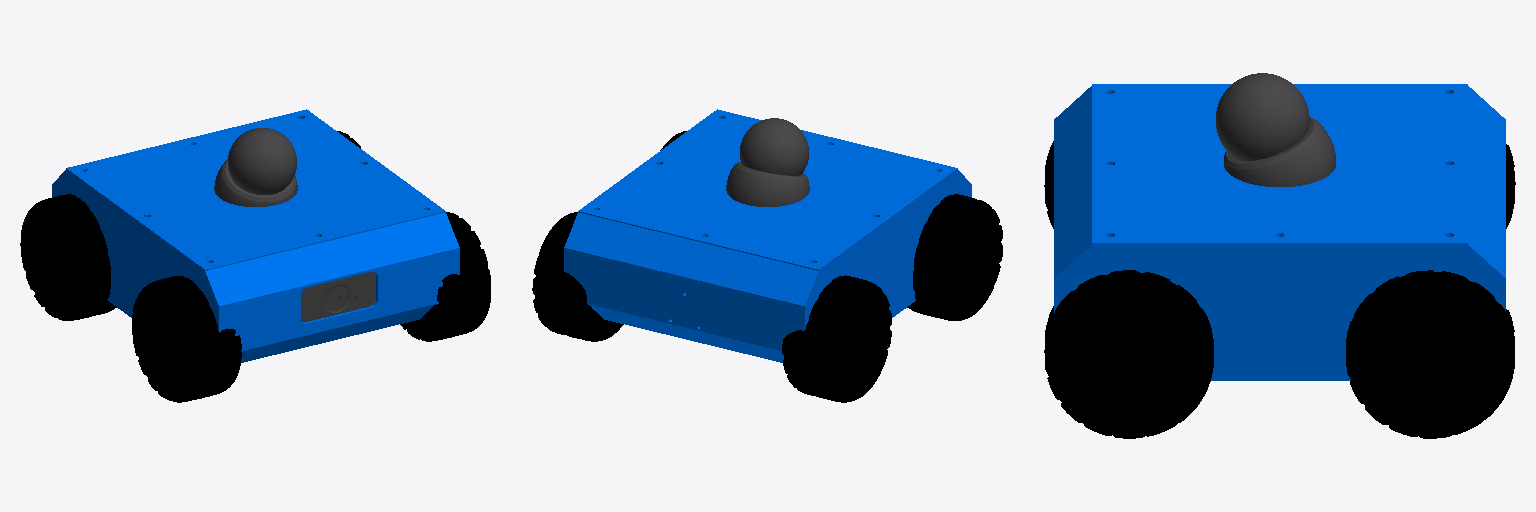
The robot description file, URDF, robot "corobot":
<?xml version="1.0"?>

<robot name="corobot"
xmlns:sensor="http://playerstage.sourceforge.net/gazebo/xmlschema/#sensor"
       xmlns:controller="http://playerstage.sourceforge.net/gazebo/xmlschema/#controller"
       xmlns:interface="http://playerstage.sourceforge.net/gazebo/xmlschema/#interface">
	<!-- base_footprint is a fictitious link(frame) that is on the ground right below base_link origin,
	     navigation stack depends on this frame -->
	<link name="base_footprint">
	    <inertial>
		<mass value="0.0001" />
		<origin xyz="0 0 0" />
		<inertia ixx="0.0001" ixy="0.0" ixz="0.0"
		         iyy="0.0001" iyz="0.0" 
		         izz="0.0001" />
	    </inertial>
	    
	    <visual>
		<origin xyz="0 0 0" rpy="0 0 0" />
		<geometry>
		    <box size="0.001 0.001 0.001" />
		</geometry>
		<material name="Green" />
	    </visual>
	    
	    <collision>
		<origin xyz="0 0 0.128" rpy="0 0 0" />
		<geometry>
		  <box size="0.001 0.001 0.001" />
		</geometry>
	    </collision>
	</link>


  <link
    name="base_link">
    <inertial>
      <origin
        xyz="3.2953E-17 0.0023067 -0.012977"
        rpy="0 0 0" />
      <mass
        value="8.60299" />
      <inertia
        ixx="0.0072395"
        ixy="0"
        ixz="0"
        iyy="0.006059"
        iyz="0"
        izz="0.011702" />
    </inertial>
    <visual>
      <origin
        xyz="0 0 0"
        rpy="0 0 0" />
      <geometry>
        <mesh
          filename="package://corobot_urdf/meshes/Base.STL" />
      </geometry>
      <material
        name="">
        <color
          rgba="0 0.47 0.95 1" />
      </material>
    </visual>
    <collision>
      <origin
        xyz="0 0 0"
        rpy="0 0 0" />
      <geometry>
        <mesh
          filename="package://corobot_urdf/meshes/Base.STL" />
      </geometry>
    </collision>
  </link>

	<joint name="base_footprint_joint" type="fixed">
	    <origin xyz="0 0 0" rpy="0 0 0" />
	    <parent link="base_footprint"/>
	    <child link="base_link" />
	
	</joint>


<gazebo reference="base_link">
    <material>Gazebo/Custom_Blue</material>
  </gazebo>


    <gazebo>
      <plugin name="imu_controller" filename="libgazebo_ros_imu.so">
        <alwaysOn>true</alwaysOn>
        <updateRate>50</updateRate>
        <bodyName>base_link</bodyName>
        <topicName>imu_data_fast</topicName>
        <gaussianNoise>0.1</gaussianNoise>
        <xyzOffset>0 0 0</xyzOffset> 
        <rpyOffset>0 0.0 0</rpyOffset>
      </plugin>
    </gazebo>


  <link
    name="cover">
    <inertial>
      <origin
        xyz="8.5617E-17 0.000625 -3.5469E-19"
        rpy="0 0 0" />
      <mass
        value="0.074628" />
      <inertia
        ixx="0.00042841"
        ixy="0"
        ixz="0"
        iyy="0.0008568"
        iyz="0"
        izz="0.00042841" />
    </inertial>
    <visual>
      <origin
        xyz="0 0 0"
        rpy="0 0 0" />
      <geometry>
        <mesh
          filename="package://corobot_urdf/meshes/cover.STL" />
      </geometry>
      <material
        name="">
        <color
          rgba="0 0.47 0.95 1" />
      </material>
    </visual>
    <collision>
      <origin
        xyz="0 0 0"
        rpy="0 0 0" />
      <geometry>
        <mesh
          filename="package://corobot_urdf/meshes/cover.STL" />
      </geometry>
    </collision>
  </link>

<gazebo reference="cover">
    <material>Gazebo/Custom_Blue</material>
  </gazebo>

  <joint
    name="cover_joint"
    type="fixed">
    <origin
      xyz="0 0 0.0508"
      rpy="1.5708 0 0" />
    <parent
      link="base_link" />
    <child
      link="cover" />
    <axis
      xyz="0 0 0" />
  </joint>

  <link
    name="orbit">
    <inertial>
      <origin
        xyz="-1.0166E-09 0.032926 0.0012666"
        rpy="0 0 0" />
      <mass
        value="0.24684" />
      <inertia
        ixx="0.00017194"
        ixy="0"
        ixz="0"
        iyy="0.00014928"
        iyz="0"
        izz="0.00016942" />
    </inertial>
    <visual>
      <origin
        xyz="0 0 0"
        rpy="0 0 0" />
      <geometry>
        <mesh
          filename="package://corobot_urdf/meshes/orbit.STL" />
      </geometry>
      <material
        name="">
        <color
          rgba="0.3 0.3 0.3 1" />
      </material>
    </visual>
    <collision>
      <origin
        xyz="0 0 0"
        rpy="0 0 0" />
      <geometry>
        <mesh
          filename="package://corobot_urdf/meshes/orbit.STL" />
      </geometry>
    </collision>
  </link>

<gazebo reference="orbit">
    <material>Gazebo/Custom_Grey</material>
  </gazebo>

  <joint
    name="orbit_joint"
    type="continuous">
    <origin
      xyz="0 0 0.02665"
      rpy="1.5708 0 0" />
    <parent
      link="base_link" />
    <child
      link="orbit" />
    <axis
      xyz="0 -1 0" />
  </joint>

  <link
    name="front_camera">
    <inertial>
      <origin
        xyz="2.5489E-06 0.0021357 0.0011883"
        rpy="0 0 0" />
      <mass
        value="0.037911" />
      <inertia
        ixx="6.8429E-06"
        ixy="0"
        ixz="0"
        iyy="2.0245E-05"
        iyz="0"
        izz="2.6274E-05" />
    </inertial>
    <visual>
      <origin
        xyz="0 0 0"
        rpy="0 0 0" />
      <geometry>
        <mesh
          filename="package://corobot_urdf/meshes/front_camera.STL" />
      </geometry>
      <material
        name="">
        <color
          rgba="0.3 0.3 0.3 1" />
      </material>
    </visual>
    <collision>
      <origin
        xyz="0 0 0"
        rpy="0 0 0" />
      <geometry>
        <mesh
          filename="package://corobot_urdf/meshes/front_camera.STL" />
      </geometry>
    </collision>
  </link>

  <link name="front_camera_frame">
    <inertial>
	<mass value="0.0001" />
	<origin xyz="0 0 0" rpy="0 0 0" />
	<inertia ixx="0.0001" ixy="0.0" ixz="0.0"
	         iyy="0.0001" iyz="0.0" 
	         izz="0.0001" />
    </inertial>
    
    <visual>
	<origin xyz="0 0 0" rpy="0 0 0" />
	<geometry>
	    <box size="0.001 0.001 0.001" />
	</geometry>
	<material name="Green" />
    </visual>
    
    <collision>
	<origin xyz="0 0 0" rpy="0 0 0" />
	<geometry>
	  <box size="0.001 0.001 0.001" />
	</geometry>
    </collision>
  </link>

  <joint
    name="front_camera_joint"
    type="fixed">
    <origin
      xyz="0 -0.14288 0.000635"
      rpy="1.5708 0 0" />
    <parent
      link="base_link" />
    <child
      link="front_camera" />
    <axis

      xyz="0 0 0" />
  </joint>

  <joint
    name="front_camera_frame_joint"
    type="fixed">
    <origin
      xyz="0 0 0"
      rpy="-1.5708 -1.5708 0" />
    <parent
      link="front_camera" />
    <child
      link="front_camera_frame" />
    <axis
      xyz="0 0 0" />
  </joint>
    
<gazebo reference="front_camera">
    <material>Gazebo/Custom_Grey</material>
</gazebo>
<gazebo reference="front_camera_frame">
    <sensor type="camera" name="camera1">
      <update_rate>30.0</update_rate>
      <camera>
        <horizontal_fov>1.3962634</horizontal_fov>
        <image>
          <width>640</width>
          <height>480</height>
          <format>R8G8B8</format>
        </image>
        <clip>
          <near>0.02</near>
          <far>300</far>
        </clip>
      </camera>
      <plugin name="camera_controller" filename="libgazebo_ros_camera.so">
        <alwaysOn>true</alwaysOn>
        <updateRate>0.0</updateRate>
        <cameraName>PTZ</cameraName>
        <imageTopicName>image_raw</imageTopicName>
        <cameraInfoTopicName>camera_info</cameraInfoTopicName>
        <frameName>front_camera_frame</frameName>
        <hackBaseline>0.07</hackBaseline>
        <distortionK1>0.0</distortionK1>
        <distortionK2>0.0</distortionK2>
        <distortionK3>0.0</distortionK3>
        <distortionT1>0.0</distortionT1>
        <distortionT2>0.0</distortionT2>
      </plugin>
    </sensor>
  </gazebo>


  <link
    name="front_left_wheel">
    <inertial>
      <origin
        xyz="-1.6653E-16 -3.6082E-16 0.030326"
        rpy="0 0 0" />
      <mass
        value="0.90909" />
      <inertia
        ixx="0.0017848"
        ixy="0"
        ixz="0"
        iyy="0.0017848"
        iyz="0"
        izz="0.0031399" />
    </inertial>
    <visual>
      <origin
        xyz="0 0 0"
        rpy="0 0 0" />
      <geometry>
        <mesh
          filename="package://corobot_urdf/meshes/front_left_wheel.STL" />
      </geometry>
      <material
        name="">
        <color
          rgba="0 0 0 1" />
      </material>
    </visual>
    <collision>
      <origin
        xyz="0 0 0"
        rpy="0 0 0" />
      <geometry>
        <mesh
          filename="package://corobot_urdf/meshes/front_left_wheel.STL" />
      </geometry>
    </collision>
  </link>

<gazebo reference="front_left_wheel">
    <material>Gazebo/Black</material>
  </gazebo>

  <joint
    name="front_left_wheel_joint"
    type="continuous">
    <origin
      xyz="0.1316 -0.1016 -0.025369"
      rpy="1.5708 -0.95515 1.5708" />
    <parent
      link="base_link" />
    <child
      link="front_left_wheel" />
    <axis
      xyz="0 0 1" />
<anchor xyz="0 0 0" />
            <limit effort="30" velocity="100" />
            <joint_properties damping="0.0" friction="1.0" />
  </joint>

  <link
    name="front_right_wheel">
    <inertial>
      <origin
        xyz="7.5392E-11 -2.6566E-11 -0.030319"
        rpy="0 0 0" />
      <mass
        value="0.90961" />
      <inertia
        ixx="0.0017853"
        ixy="0"
        ixz="0"
        iyy="0.0017853"
        iyz="0"
        izz="0.0031406" />
    </inertial>
    <visual>
      <origin
        xyz="0 0 0"
        rpy="0 0 0" />
      <geometry>
        <mesh
          filename="package://corobot_urdf/meshes/front_right_wheel.STL" />
      </geometry>
      <material
        name="">
        <color
          rgba="0 0 0 1" />
      </material>
    </visual>
    <collision>
      <origin
        xyz="0 0 0"
        rpy="0 0 0" />
      <geometry>
        <mesh
          filename="package://corobot_urdf/meshes/front_right_wheel.STL" />
      </geometry>
    </collision>
  </link>

<gazebo reference="front_right_wheel">
    <material>Gazebo/Black</material>
  </gazebo>

  <joint
    name="front_right_wheel_joint"
    type="continuous">
    <origin
      xyz="-0.1316 -0.1016 -0.025432"
      rpy="1.5708 -0.10079 1.5708" />
    <parent
      link="base_link" />
    <child
      link="front_right_wheel" />
<anchor xyz="0 0 0" />
            <limit effort="30" velocity="100" />
            <joint_properties damping="0.0" friction="1.0" />
    <axis
      xyz="0 0 1" />
  </joint>

  <link
    name="rear_left_wheel">
    <inertial>
      <origin
        xyz="-1.6653E-16 -3.4694E-16 0.030326"
        rpy="0 0 0" />
      <mass
        value="0.90909" />
      <inertia
        ixx="0.0017848"
        ixy="0"
        ixz="0"
        iyy="0.0017848"
        iyz="0"
        izz="0.0031399" />
    </inertial>
    <visual>
      <origin
        xyz="0 0 0"
        rpy="0 0 0" />
      <geometry>
        <mesh
          filename="package://corobot_urdf/meshes/rear_left_wheel.STL" />
      </geometry>
      <material
        name="">
        <color
          rgba="0 0 0 1" />
      </material>
    </visual>
    <collision>
      <origin
        xyz="0 0 0"
        rpy="0 0 0" />
      <geometry>
        <mesh
          filename="package://corobot_urdf/meshes/rear_left_wheel.STL" />
      </geometry>
    </collision>
  </link>

<gazebo reference="rear_left_wheel">
    <material>Gazebo/Black</material>
  </gazebo>

  <joint
    name="rear_left_wheel_joint"
    type="continuous">
    <origin
      xyz="0.1316 0.1016 -0.025369"
      rpy="-1.5708 1.2267 -1.5708" />
    <parent
      link="base_link" />
    <child
      link="rear_left_wheel" />
    <axis
      xyz="0 0 1" />
<anchor xyz="0 0 0" />
            <limit effort="30" velocity="100" />
            <joint_properties damping="0.0" friction="1.0" />
  </joint>

  <link
    name="rear_right_wheel">
    <inertial>
      <origin
        xyz="7.5392E-11 -2.6566E-11 -0.030319"
        rpy="0 0 0" />
      <mass
        value="0.90961" />
      <inertia
        ixx="0.0017853"
        ixy="0"
        ixz="0"
        iyy="0.0017853"
        iyz="0"
        izz="0.0031406" />
    </inertial>
    <visual>
      <origin
        xyz="0 0 0"
        rpy="0 0 0" />
      <geometry>
        <mesh
          filename="package://corobot_urdf/meshes/rear_right_wheel.STL" />
      </geometry>
      <material
        name="">
        <color
          rgba="0 0 0 1" />
      </material>
    </visual>
    <collision>
      <origin
        xyz="0 0 0"
        rpy="0 0 0" />
      <geometry>
        <mesh
          filename="package://corobot_urdf/meshes/rear_right_wheel.STL" />
      </geometry>
    </collision>
  </link>

<gazebo reference="rear_right_wheel">
    <material>Gazebo/Black</material>
  </gazebo>

  <joint
    name="rear_right_wheel_joint"
    type="continuous">
    <origin
      xyz="-0.1316 0.1016 -0.025432"
      rpy="1.5708 0.23163 1.5708" />
    <parent
      link="base_link" />
    <child
      link="rear_right_wheel" />
    <axis
      xyz="0 0 1" />
<anchor xyz="0 0 0" />
            <limit effort="30" velocity="100" />
            <joint_properties damping="0.0" friction="1.0" />
  </joint>

<transmission type="pr2_mechanism_model/SimpleTransmission" name="corobot_rear_left_wheel_trans">
    <actuator name="rear_left_motor" />
    <joint name="rear_left_wheel_joint" />
    <mechanicalReduction>1.0</mechanicalReduction>
    <motorTorqueConstant>1.0</motorTorqueConstant>
 </transmission>

<transmission type="pr2_mechanism_model/SimpleTransmission" name="corobot_rear_right_wheel_trans">
    <actuator name="rear_right_motor" />
    <joint name="rear_right_wheel_joint" />
    <mechanicalReduction>1.0</mechanicalReduction>
    <motorTorqueConstant>1.0</motorTorqueConstant>
 </transmission>

<transmission type="pr2_mechanism_model/SimpleTransmission" name="corobot_front_left_wheel_trans">
    <actuator name="front_left_motor" />
    <joint name="front_left_wheel_joint" />
    <mechanicalReduction>1.0</mechanicalReduction>
    <motorTorqueConstant>1.0</motorTorqueConstant>
 </transmission>

<transmission type="pr2_mechanism_model/SimpleTransmission" name="corobot_front_right_wheel_trans">
    <actuator name="front_right_motor" />
    <joint name="front_right_wheel_joint" />
    <mechanicalReduction>1.0</mechanicalReduction>
    <motorTorqueConstant>1.0</motorTorqueConstant>
 </transmission>

<gazebo>   
     <plugin name="gazebo_ros_controller_manager" filename="libgazebo_ros_controller_manager.so">
          <alwaysOn>true</alwaysOn>
          <updateRate>1000.0</updateRate>
          <robotNamespace></robotNamespace>
          <robotParam>robot_description</robotParam>
          <interface:audio name="gazebo_ros_controller_manager_dummy_iface" />
     </plugin>

</gazebo>
</robot>

--- Render facts (derived) ---
Views: 3 orthographic renders of the robot side by side, from view 1: azimuth 30°, elevation 25°; view 2: azimuth 150°, elevation 25°; view 3: azimuth 270°, elevation 25°.
Robot: corobot — 10 links, 9 joints (5 continuous, 4 fixed); root link base_footprint; default pose: every joint at zero.
Visible links, largest first — view 1: cover, base_link, front_right_wheel, rear_right_wheel, orbit, front_left_wheel, front_camera; view 2: base_link, cover, rear_right_wheel, front_right_wheel, orbit, rear_left_wheel; view 3: cover, base_link, front_left_wheel, rear_left_wheel, orbit, front_right_wheel, rear_right_wheel.
Link boxes in pixels (box(x1,y1,x2,y2)): cover: box(66, 109, 445, 270); base_link: box(52, 117, 459, 362); front_right_wheel: box(132, 276, 241, 402); rear_right_wheel: box(20, 194, 116, 320); orbit: box(214, 128, 297, 206); front_left_wheel: box(400, 212, 490, 341); front_camera: box(301, 272, 375, 321); base_link: box(564, 117, 971, 362); cover: box(578, 109, 957, 270); rear_right_wheel: box(782, 275, 891, 402); front_right_wheel: box(907, 194, 1002, 320); orbit: box(726, 118, 809, 206); rear_left_wheel: box(532, 212, 623, 341); cover: box(1092, 84, 1467, 244); base_link: box(1054, 86, 1505, 380); front_left_wheel: box(1044, 270, 1213, 438); rear_left_wheel: box(1346, 270, 1514, 438); orbit: box(1216, 73, 1335, 186); front_right_wheel: box(1044, 141, 1053, 228); rear_right_wheel: box(1506, 144, 1515, 228).
Bounding box of the posed robot: 0.3267 × 0.3177 × 0.1987 m (x, y, z).
8 mesh visuals loaded from 8 distinct referenced files (8 binary STL).